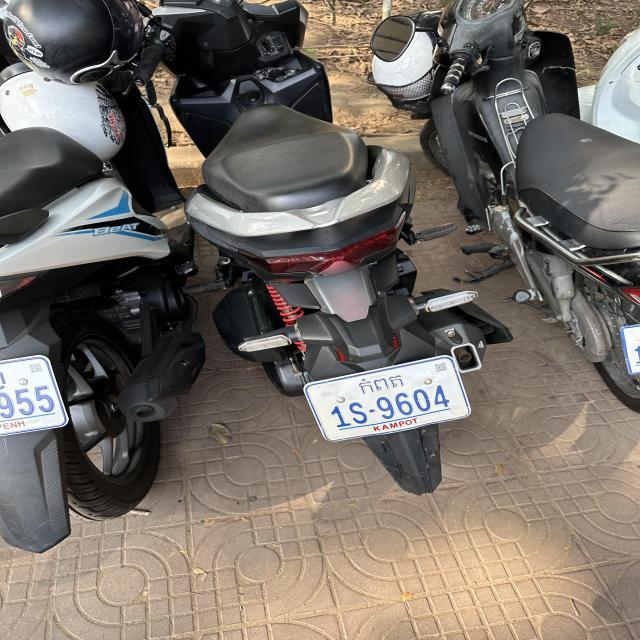Kampot: (358, 374, 404, 394)
